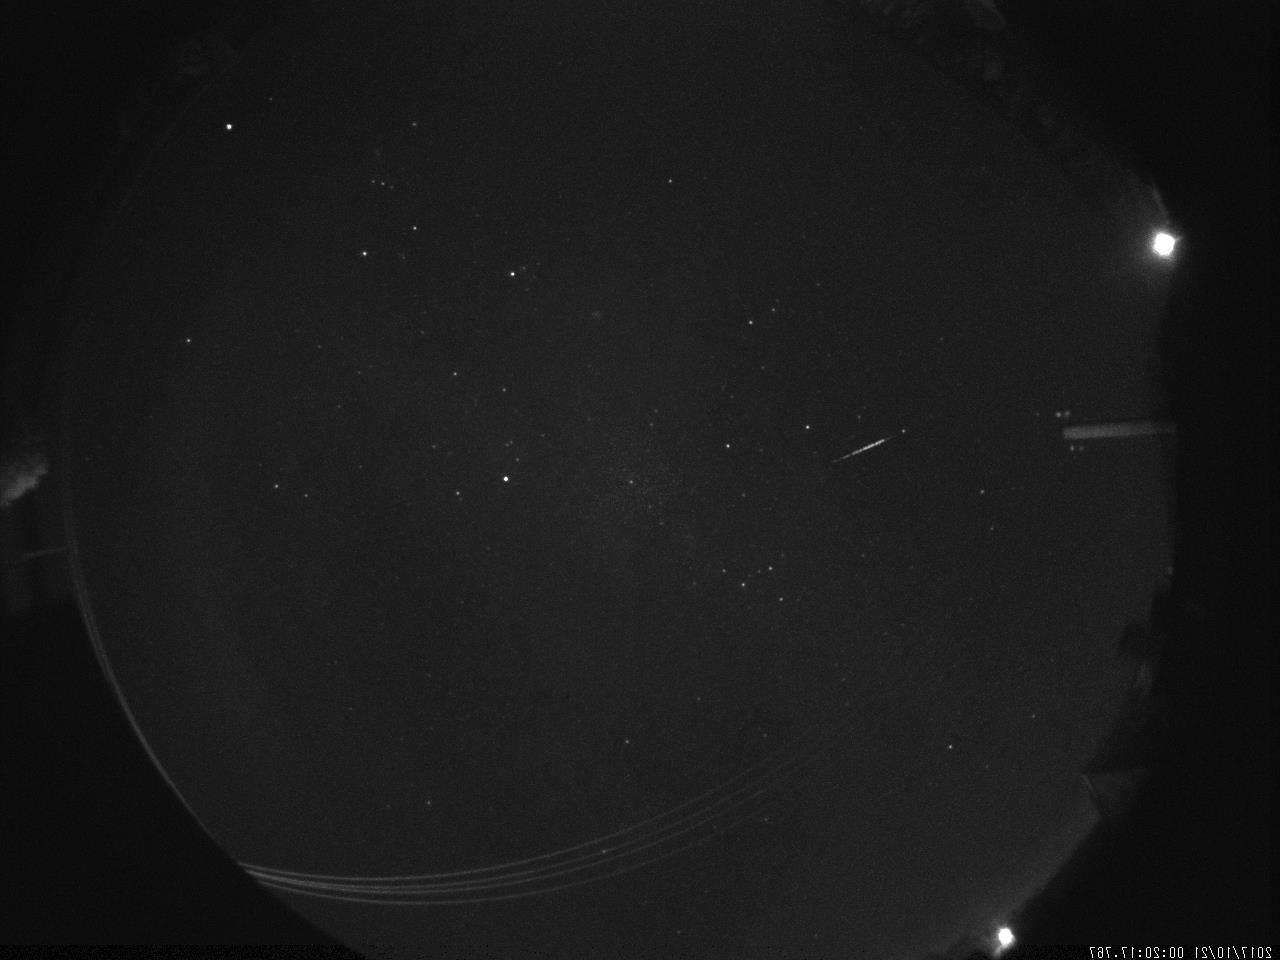meteor: (821, 425, 900, 474)
